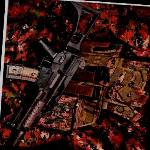Senapan: (0, 0, 94, 150)
